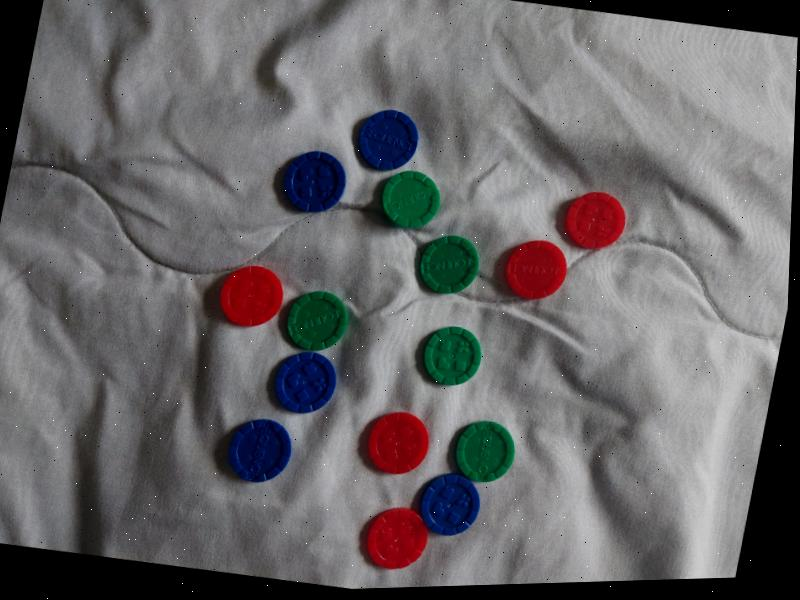Blue_Token: (212, 405, 334, 506), (273, 137, 370, 246), (402, 454, 495, 548), (330, 96, 437, 172), (261, 335, 348, 422)
Green_Token: (372, 155, 459, 254), (412, 310, 499, 395), (444, 402, 531, 487), (286, 278, 365, 358), (405, 221, 482, 302)
Red_Token: (191, 227, 298, 341), (341, 472, 437, 578), (535, 175, 646, 254), (352, 391, 434, 495), (496, 221, 581, 321)
